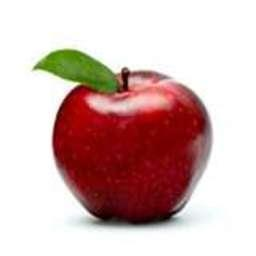apple: (50, 66, 213, 226)
